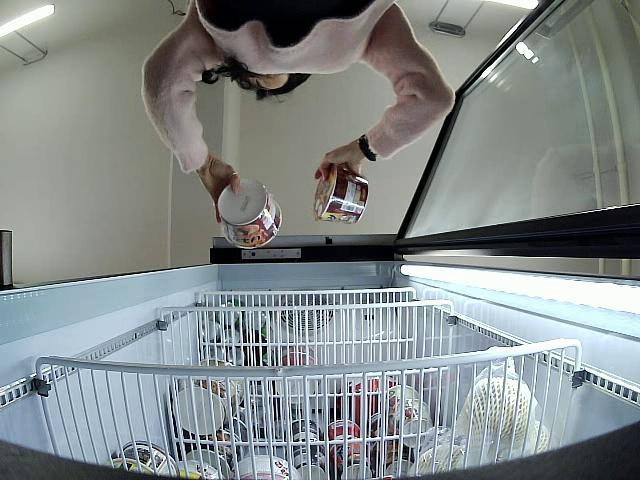05_nuguri_L: (218, 178, 283, 250), (312, 166, 368, 224)
